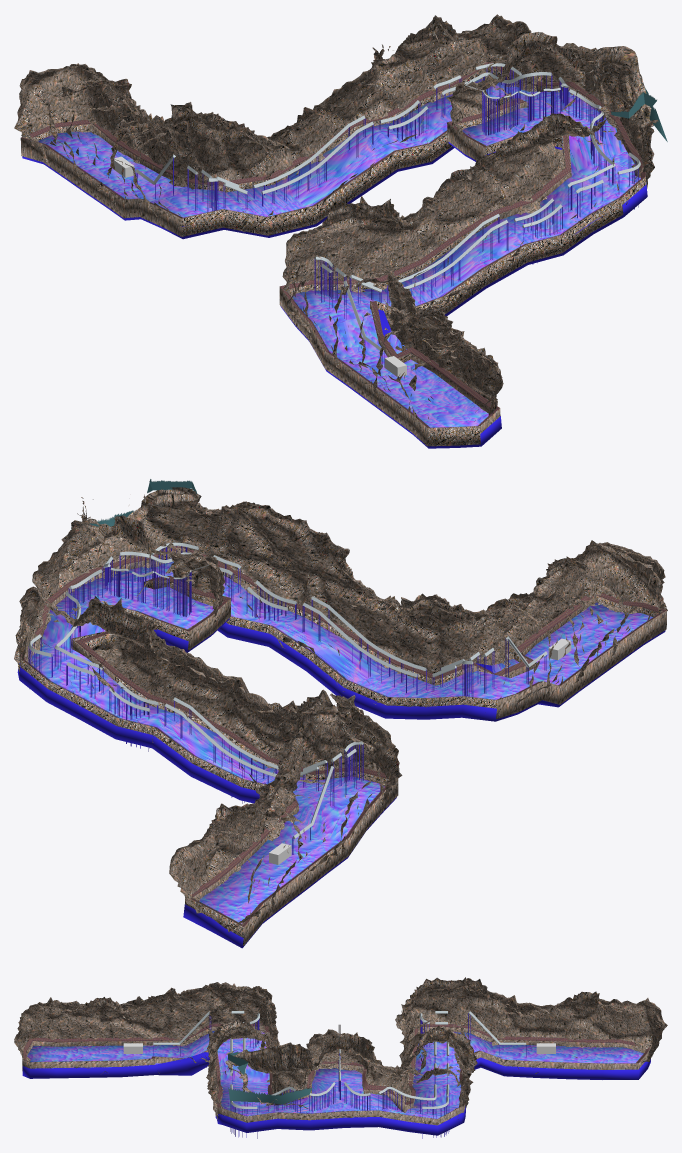
The model's file is omasurfmap.glb.
3 renders of one model, top to bottom at view 1: azimuth 30°, elevation 25°; view 2: azimuth 150°, elevation 25°; view 3: azimuth 270°, elevation 25°, orthographic. The views are drawn at different scales.
Visible parts, largest first — view 1: Circle.001-col.007, water, Circle.001-col.006, Circle.001-col.004, Circle.001-col.009, Circle.001-col.008, Circle.001-col.003, Circle.001-col.005; view 2: Circle.001-col.007, water, Circle.001-col.006, Circle.001-col.004, Circle.001-col.009, Circle.001-col.008, Circle.001-col.003, Circle.001-col.005, Circle-col; view 3: Circle.001-col.007, water, Circle.001-col.006, Circle.001-col.004, Circle.001-col.009, Circle.001-col.010, Circle.001-col.003, Circle.001-col.008, Circle.001-col.005.
Boxes of the visible parts, x1,y1,x2,y2 form: Circle.001-col.007: (14, 14, 658, 442); water: (22, 78, 647, 448); Circle.001-col.006: (20, 62, 646, 446); Circle.001-col.004: (135, 63, 640, 367); Circle.001-col.009: (22, 62, 644, 427); Circle.001-col.008: (33, 66, 641, 427); Circle.001-col.003: (558, 76, 601, 125); Circle.001-col.005: (112, 156, 406, 377); Circle.001-col.007: (14, 487, 667, 932); water: (17, 558, 665, 948); Circle.001-col.006: (20, 546, 666, 945); Circle.001-col.004: (28, 542, 547, 854); Circle.001-col.009: (21, 549, 665, 926); Circle.001-col.008: (24, 547, 658, 925); Circle.001-col.003: (68, 556, 112, 609); Circle.001-col.005: (269, 638, 571, 864); Circle-col: (173, 571, 191, 616); Circle.001-col.007: (14, 977, 667, 1120); water: (22, 1031, 650, 1135); Circle.001-col.006: (22, 1022, 650, 1125); Circle.001-col.004: (153, 1011, 526, 1138); Circle.001-col.009: (25, 1023, 645, 1118); Circle.001-col.010: (228, 1088, 311, 1104); Circle.001-col.003: (309, 1082, 370, 1111); Circle.001-col.008: (26, 1025, 646, 1113); Circle.001-col.005: (123, 1043, 555, 1053).
Bounding box in the file's own units: 2780 × 1260 × 5140.
11 materials, 7 textured.
